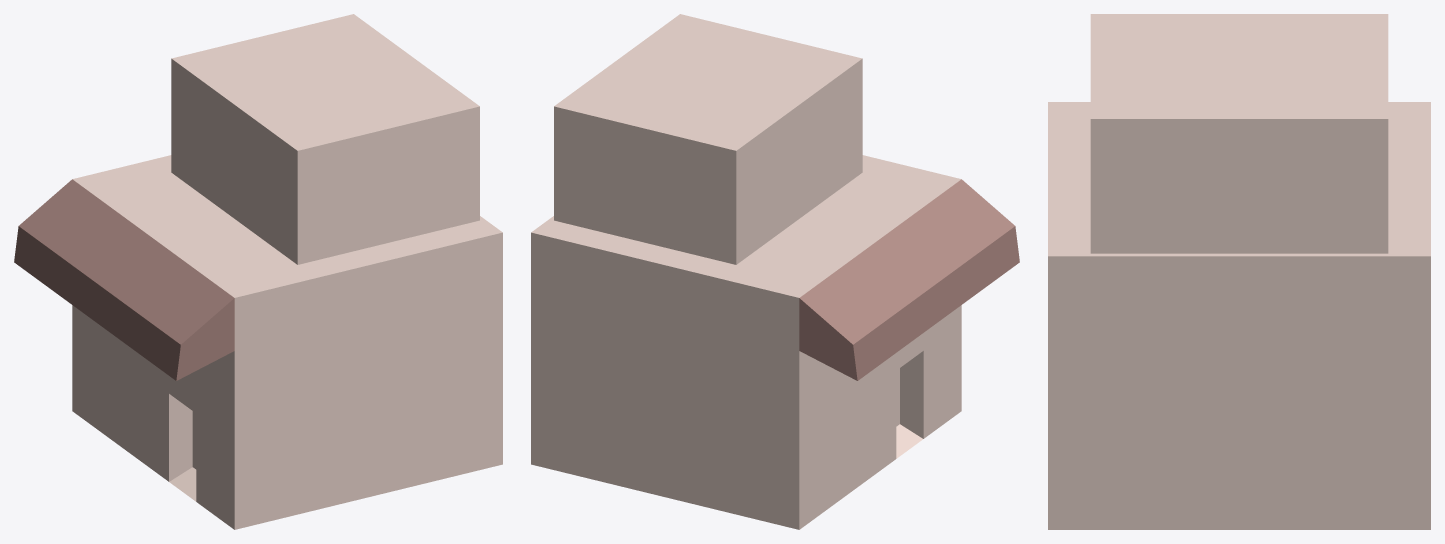
Rendered from CasaChica006.FBX.
The picture shows the model from 3 angles, left to right: view 1: azimuth 30°, elevation 25°; view 2: azimuth 150°, elevation 25°; view 3: azimuth 270°, elevation 25°; orthographic projection. The views are drawn at different scales.
Parts seen in each view (by area): view 1: CasaChica003; view 2: CasaChica003; view 3: CasaChica003.
Boxes of the visible parts, x1,y1,x2,y2 form: CasaChica003: (14,14,502,529); CasaChica003: (531,14,1019,529); CasaChica003: (1048,14,1430,529).
Bounding box in the file's own units: 529 × 536 × 455.
